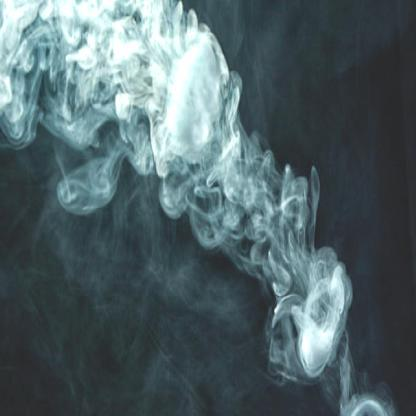smoke: (0, 0, 234, 188), (209, 143, 346, 371)
